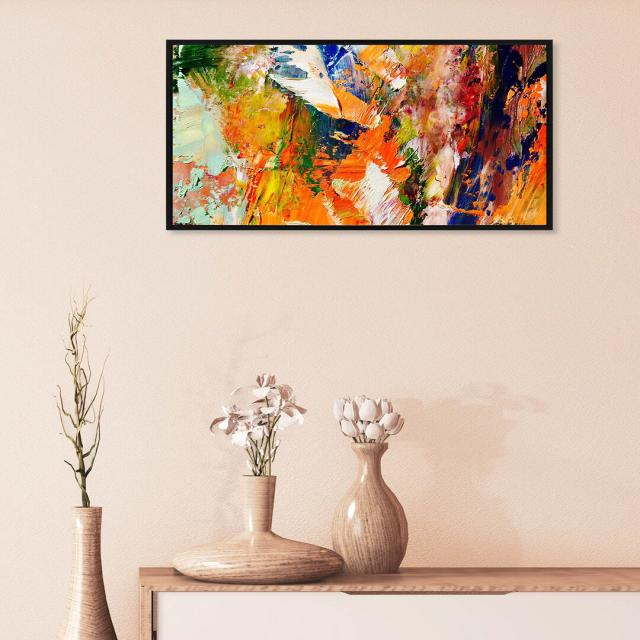painting: (165, 37, 552, 228)
